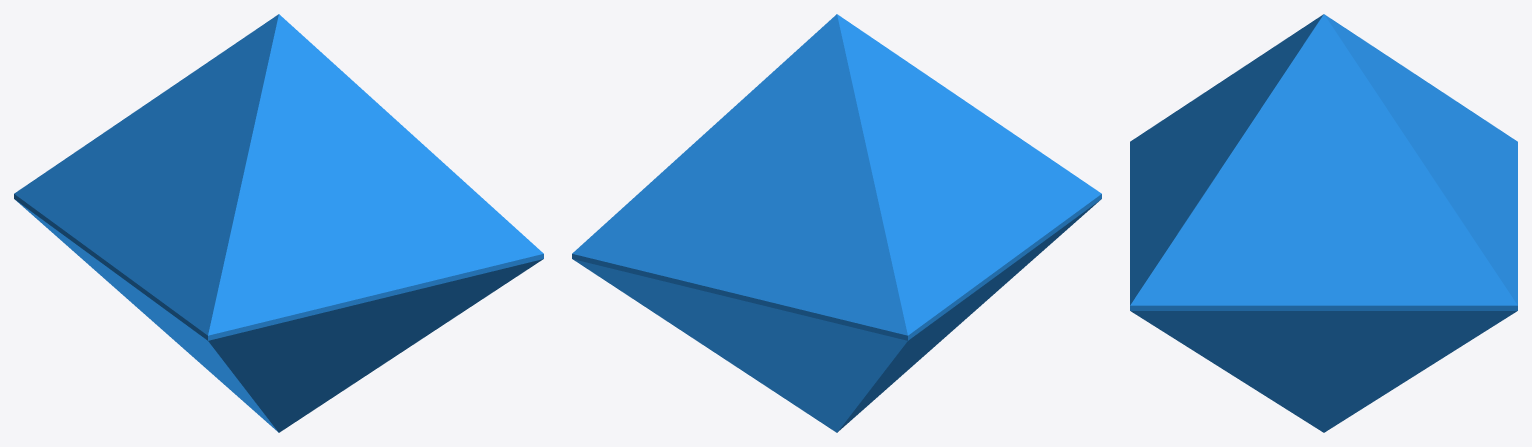
Rendered from Improved collider.fbx.
3 renders of one model, left to right at view 1: azimuth 30°, elevation 25°; view 2: azimuth 150°, elevation 25°; view 3: azimuth 270°, elevation 25°, orthographic.
Parts seen in each view (by area): view 1: Cube.002, Cube.003, Cube.001; view 2: Cube.002, Cube.003, Cube.001; view 3: Cube.002, Cube.003, Cube.001.
Part boxes in pixels (x1,y1,x2,y2): Cube.002: (14, 14, 543, 335); Cube.003: (16, 200, 543, 432); Cube.001: (14, 194, 543, 340); Cube.002: (572, 14, 1101, 335); Cube.003: (572, 200, 1099, 432); Cube.001: (572, 194, 1101, 340); Cube.002: (1130, 14, 1517, 305); Cube.003: (1131, 311, 1516, 432); Cube.001: (1130, 305, 1517, 310).
Size of the model in its own units: 201 by 240 by 201.
